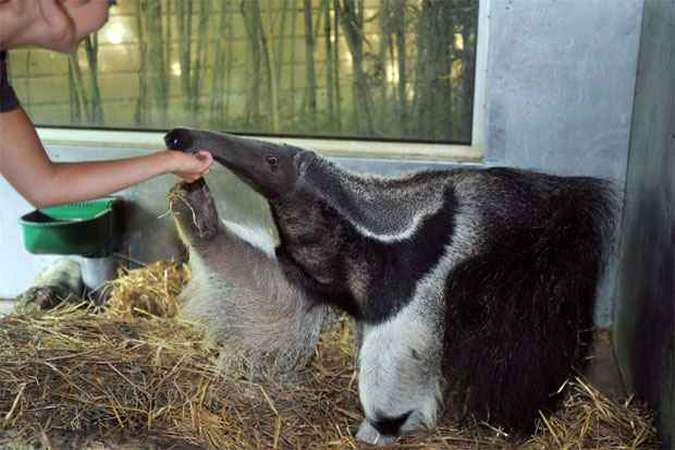TamanduaBandeira: (153, 124, 624, 436)
